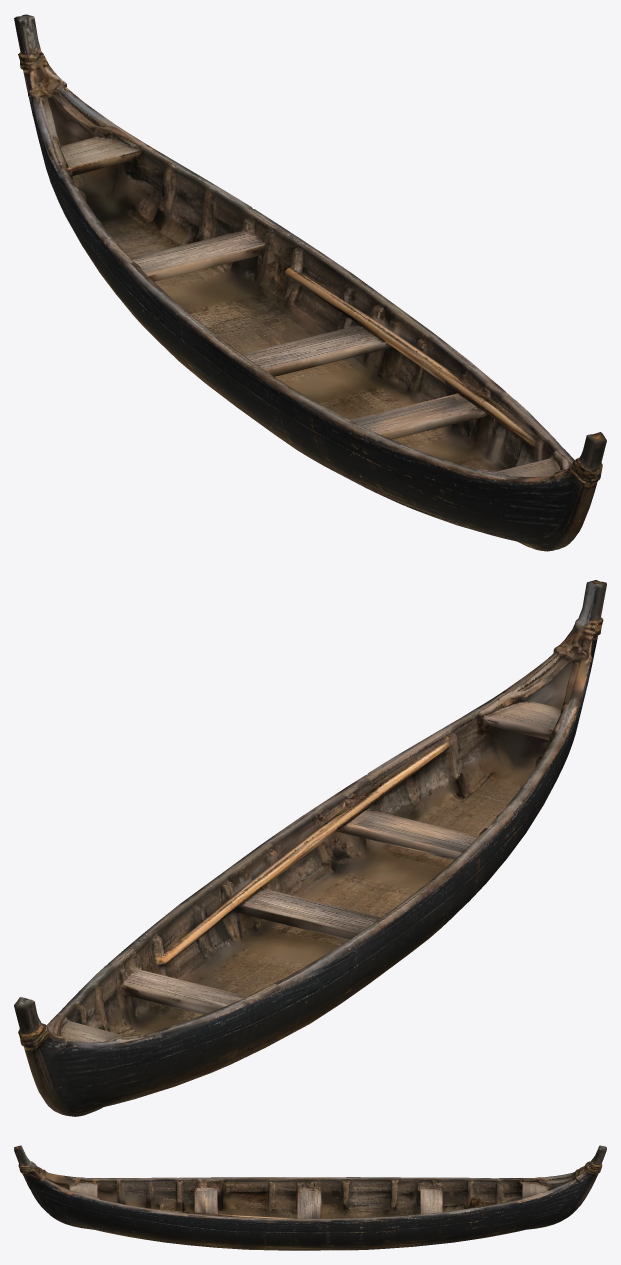
The model's file is boat_mashoof.glb.
The picture shows the model from 3 angles, top to bottom: view 1: azimuth 30°, elevation 25°; view 2: azimuth 150°, elevation 25°; view 3: azimuth 270°, elevation 25°; orthographic projection. The views are drawn at different scales.
Visible parts, largest first — view 1: geometry_0; view 2: geometry_0; view 3: geometry_0.
Part boxes in pixels (left/top/right/bottom): geometry_0: left=14, top=14, right=606, bottom=551; geometry_0: left=14, top=580, right=606, bottom=1116; geometry_0: left=14, top=1145, right=606, bottom=1250.
Size of the model in its own units: 0.2078 by 0.2029 by 1.18.
Materials: 1 (1 with a texture image).
